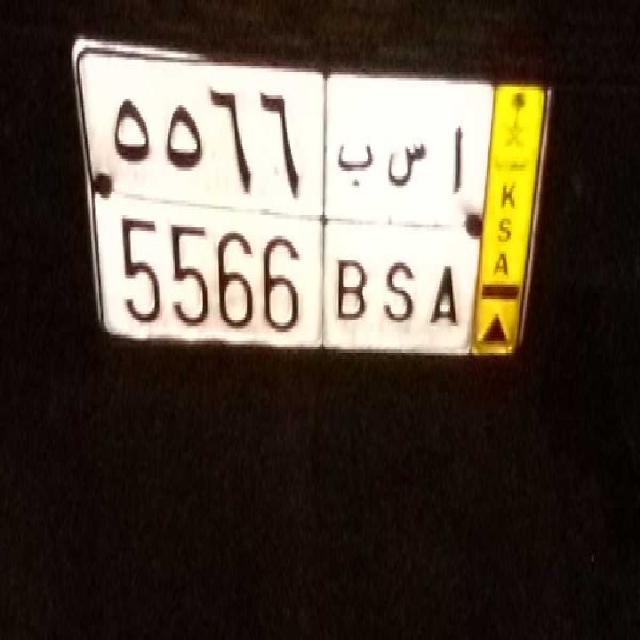license_plate: (108, 198, 470, 360)
